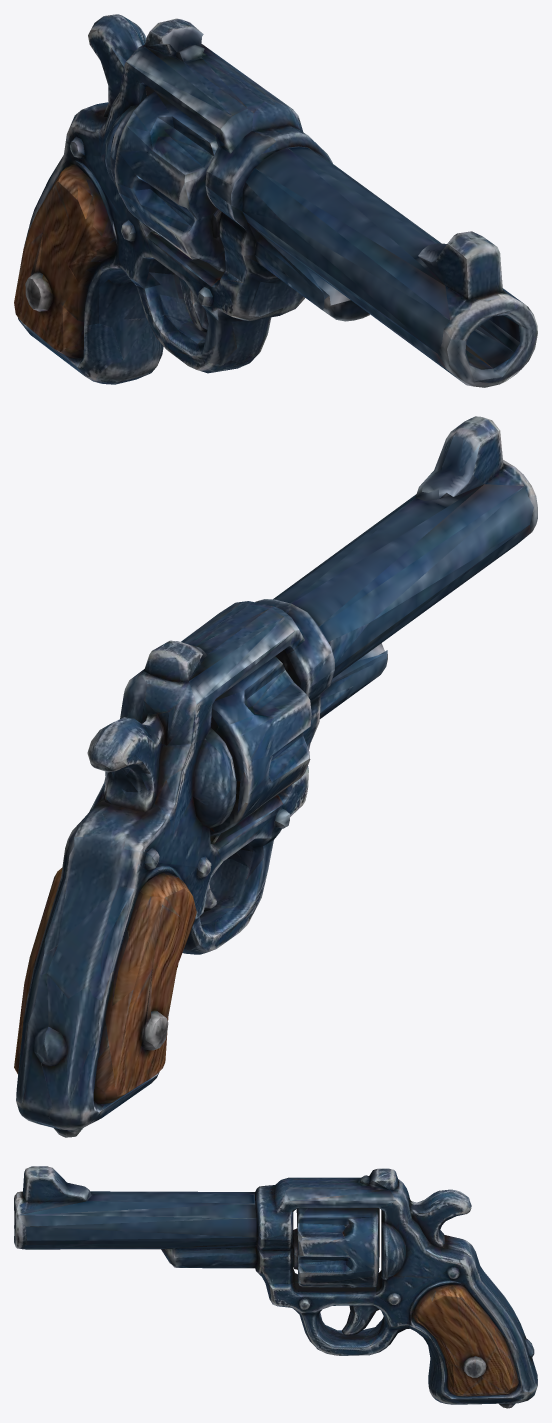
Rendered from gun_hammer.glb.
3 views of the same model, one above another, from view 1: azimuth 30°, elevation 25°; view 2: azimuth 150°, elevation 25°; view 3: azimuth 270°, elevation 25° (orthographic). The views are drawn at different scales.
Size of the model in its own units: 0.0653 by 0.1891 by 0.3746.
Materials: 1 (1 with a texture image).
